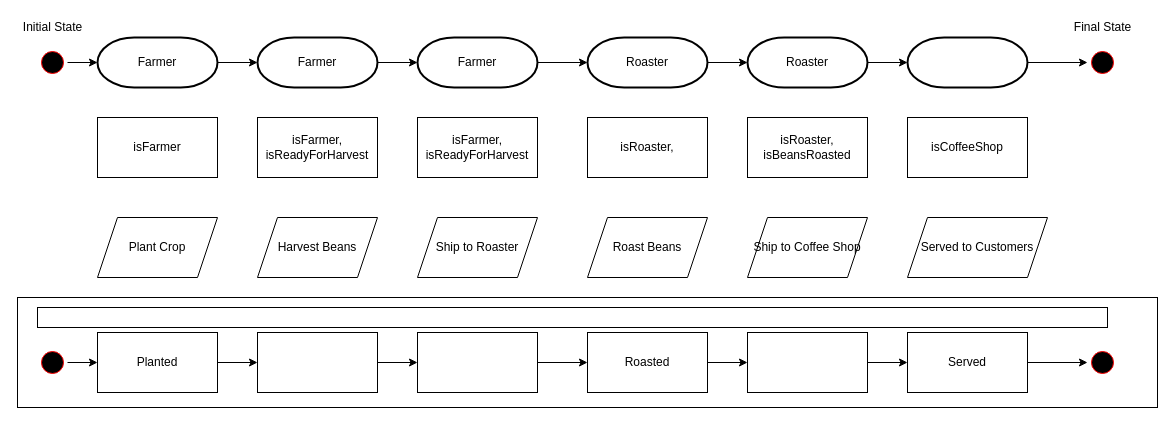
Image size: 1175x425. Some labels were removed from this diagram. The box of each missing label's shape, as (x1, y1, x2, y2) in pixels:
Coffee Bean State: (36, 306, 1108, 328)
Coffee Shop: (906, 36, 1028, 88)
Harvested: (256, 332, 378, 392)
Shipped: (746, 332, 868, 392)
Shipped To Roaster: (416, 332, 538, 392)
